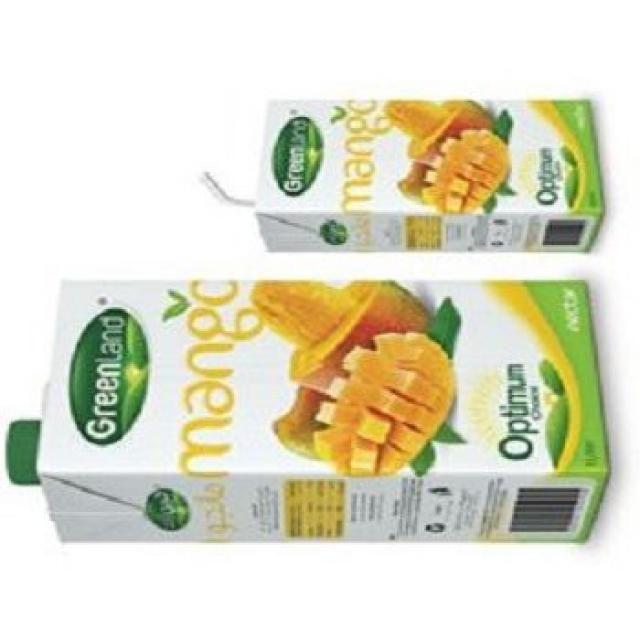non_white_jug: (35, 278, 614, 547), (255, 93, 607, 257)
